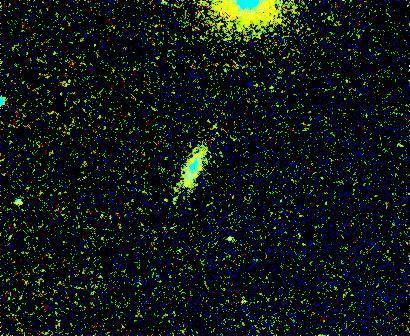star: (213, 223, 243, 253)
